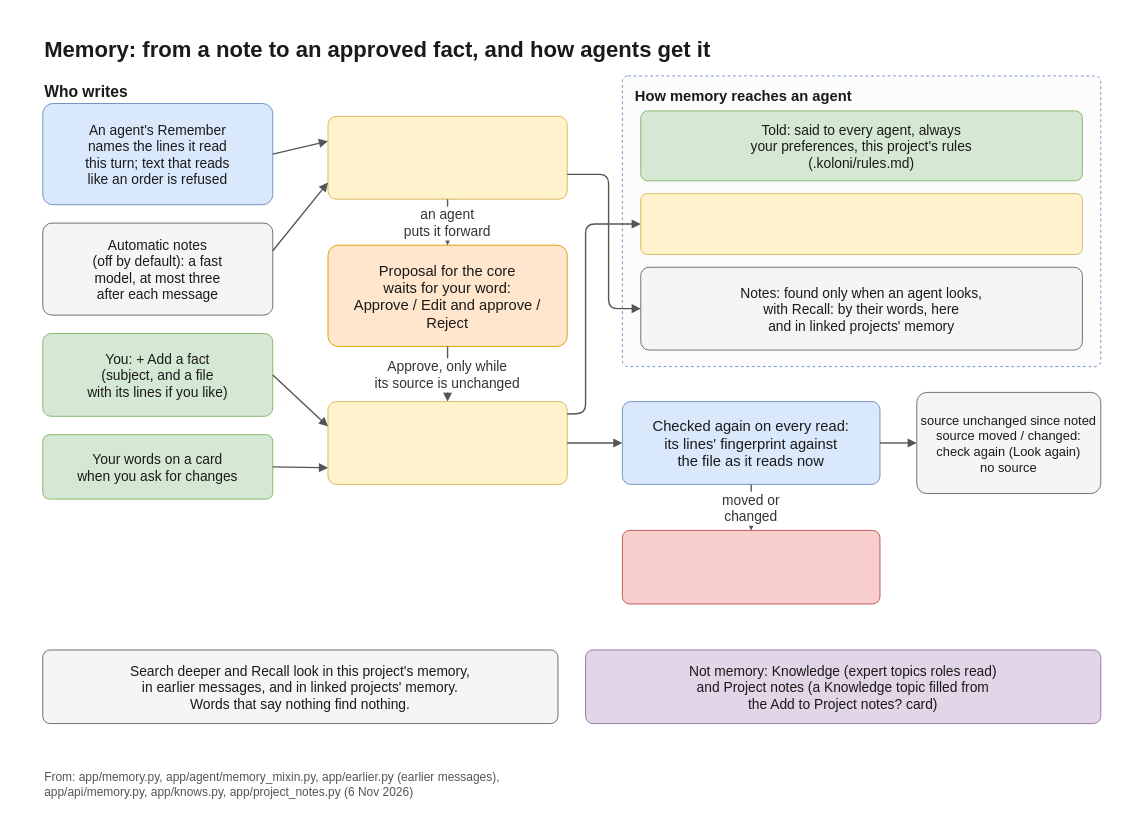
This 1134x822 diagram has some shape labels left out. The centre of each missing label's shape, as x and y in pixels:
"A fact whose source moved or changed is given to no agent until you Look again" goes at (750,566).
"Fact (the core) at most 4 000 characters; rests on lines of a file" goes at (447,442).
"Facts: given when the agent's task names every word of the fact's subject" goes at (861,223).
"Note (the journal) a newer note on the same subject replaces the older" goes at (447,157).
